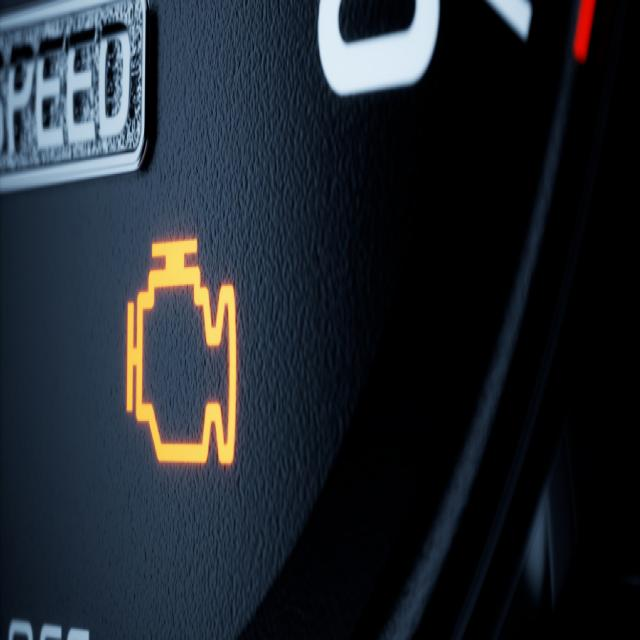kontrolka: (100, 208, 260, 488)
